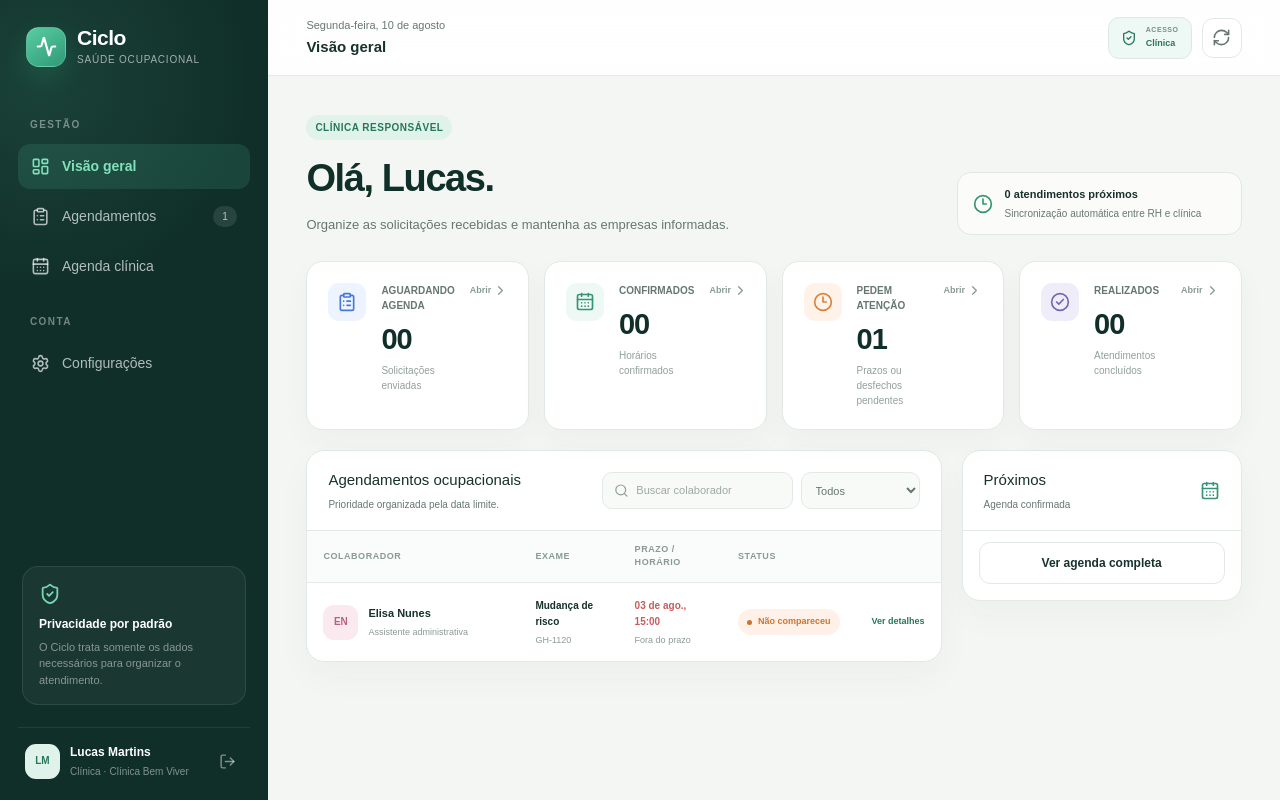
Fluxo operacional por perfil › mantém reagendar e cancelar após uma falta com prazo encerrado
Click the button "EN Elisa Nunes Assistente administrativa": (413, 622) [323,605,503,640]
(page scrolled)
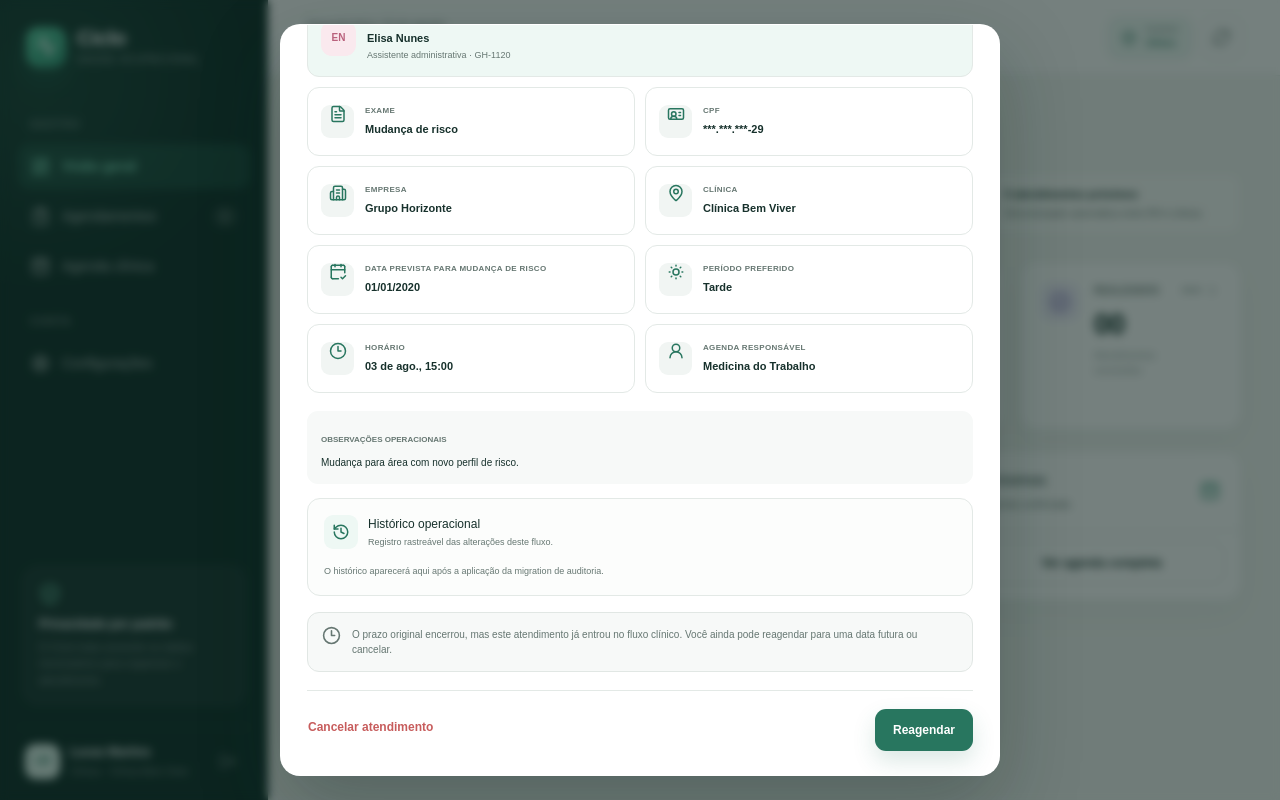
Now the button "Reagendar" is enabled
Now the button "Cancelar atendimento" is enabled, box [307,708,434,744]
Click the button "Reagendar": (924, 730) [875,708,973,750]
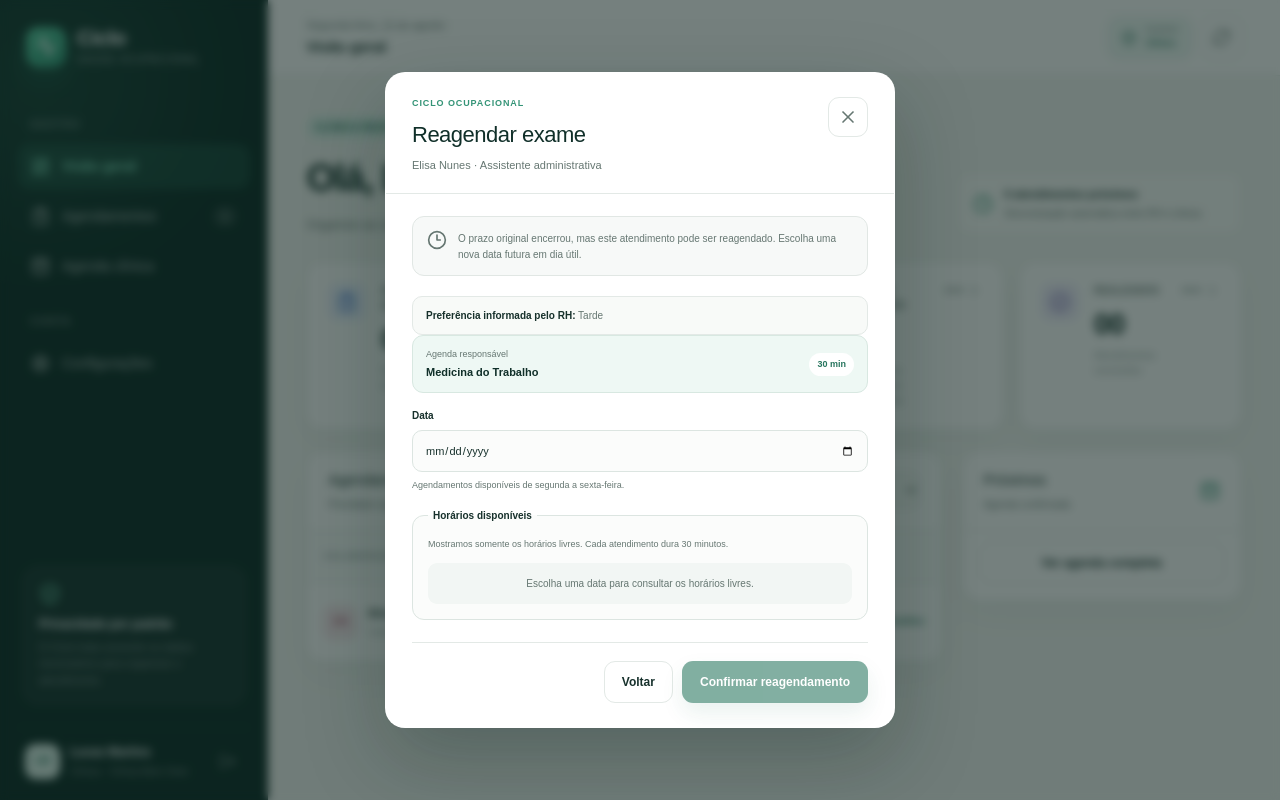
Now the heading "Reagendar exame" is shown, box [412,118,602,151]
